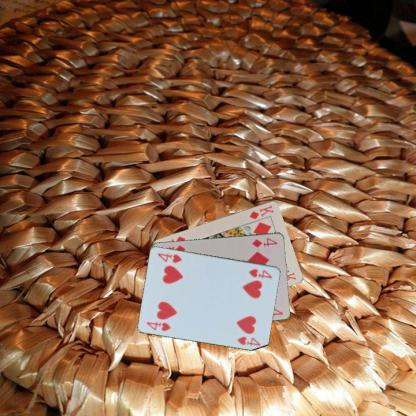4d: (249, 235, 278, 249)
4h: (246, 265, 273, 280), (145, 319, 172, 332)
Kd: (247, 202, 275, 220)
